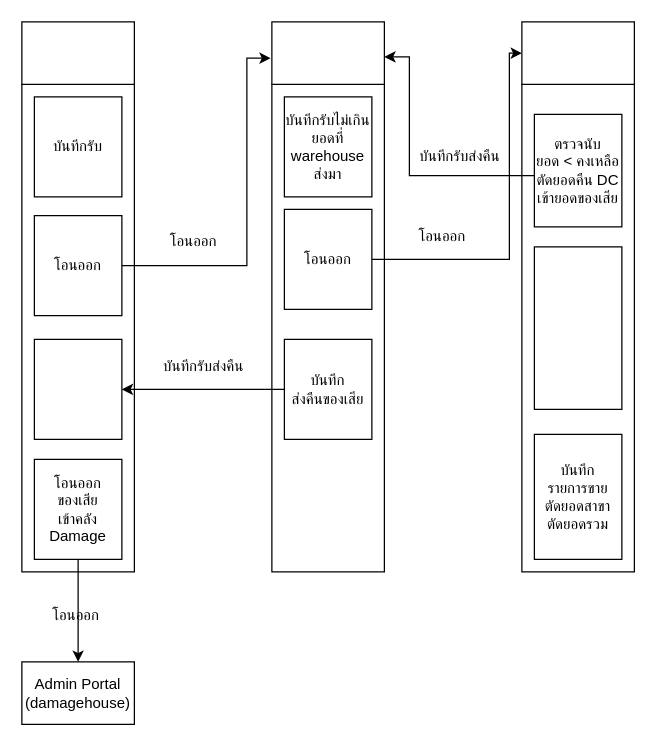
Some shapes in this 656 by 746 pixel diagram are drawn without their labels. Here are the shapes that lost their labels. From the top down, the centre of each, then its label:
the point at 77,52: Admin Portal (warehouse)
the point at 327,52: Front Line (Distibution)
the point at 577,52: Sale Report (Shop)
the point at 577,327: ตรวจนับ ยอด > คงเหลือ แจ้ง Admin ทำ Adjust In,Transfer
the point at 77,388: บันทึกรับคืน ของเสีย
